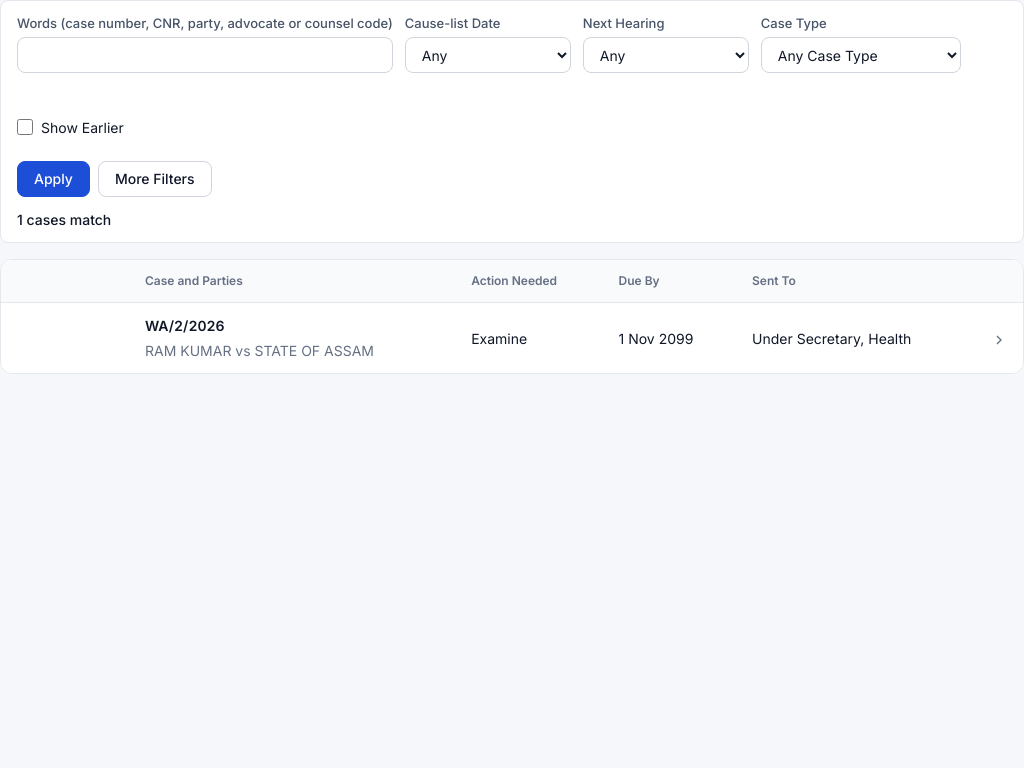
Scenario: the custody lists of the Case inbox (case-workspace-admin, decisions 17-20) › a Sent row the caller cannot open shows the panel without Open case page
Step 1. Click the row named "Details of WA/2/2026" → (512, 338), box [1,303,1023,373]
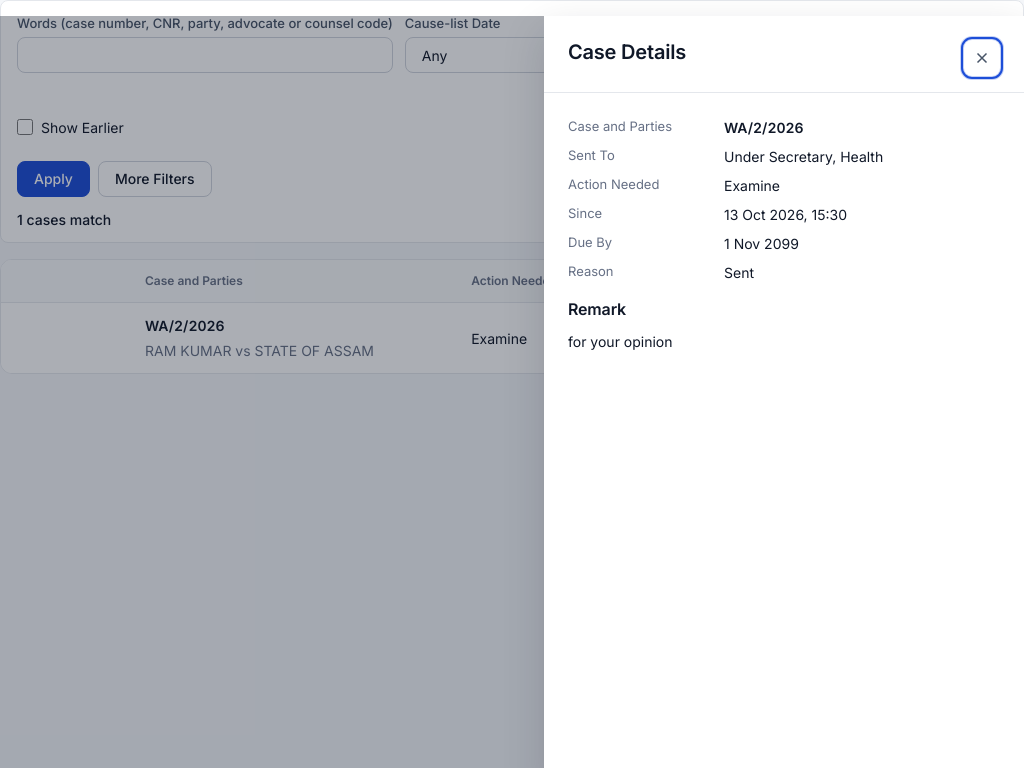
Expected: the text "for your opinion" is shown, [568,333,672,350]
